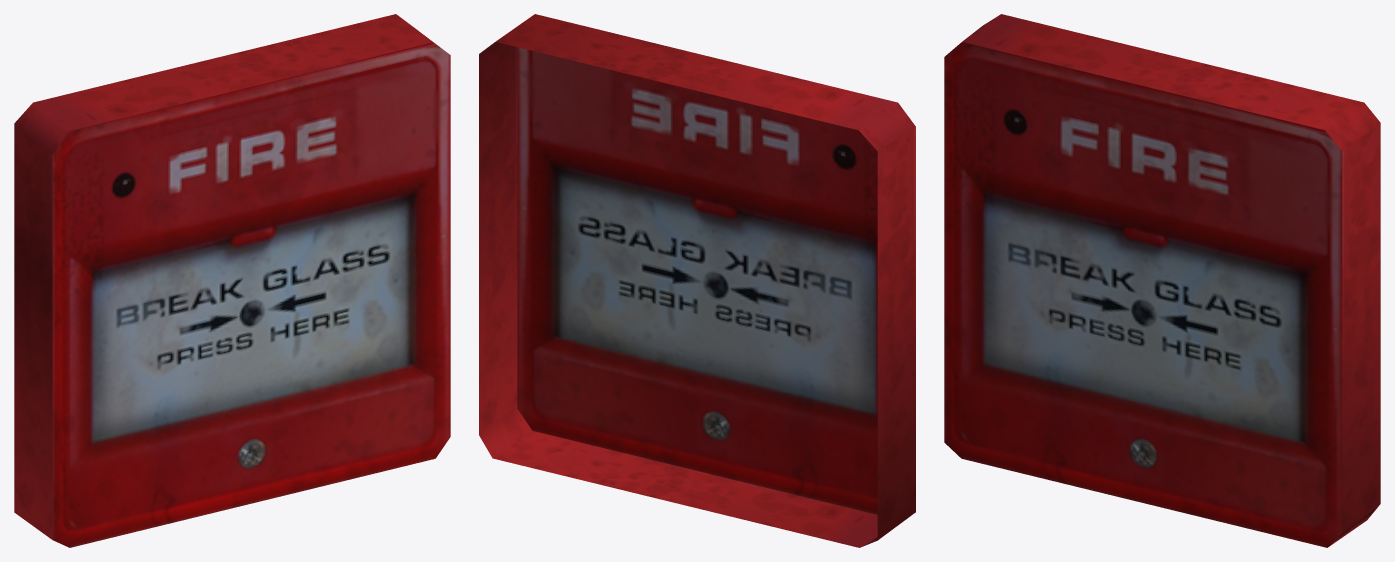
Rendered from FireAlarmBox02.FBX.
The picture shows the model from 3 angles, left to right: view 1: azimuth 30°, elevation 25°; view 2: azimuth 150°, elevation 25°; view 3: azimuth 330°, elevation 25°; orthographic projection.
Visible parts, largest first — view 1: FireAlarmBox02; view 2: FireAlarmBox02; view 3: FireAlarmBox02.
Part boxes in pixels (x1,y1,x2,y2): FireAlarmBox02: [14, 14, 450, 547]; FireAlarmBox02: [479, 14, 915, 547]; FireAlarmBox02: [944, 14, 1380, 547].
Size of the model in its own units: 7.04 by 7.05 by 1.17.
1 material, 1 textured.
